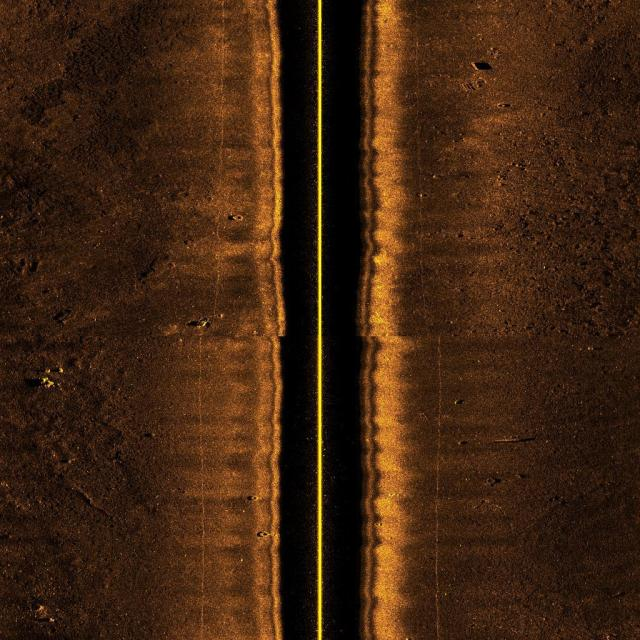mine: (490, 436, 538, 446), (466, 59, 495, 72)
other: (228, 211, 244, 218)
